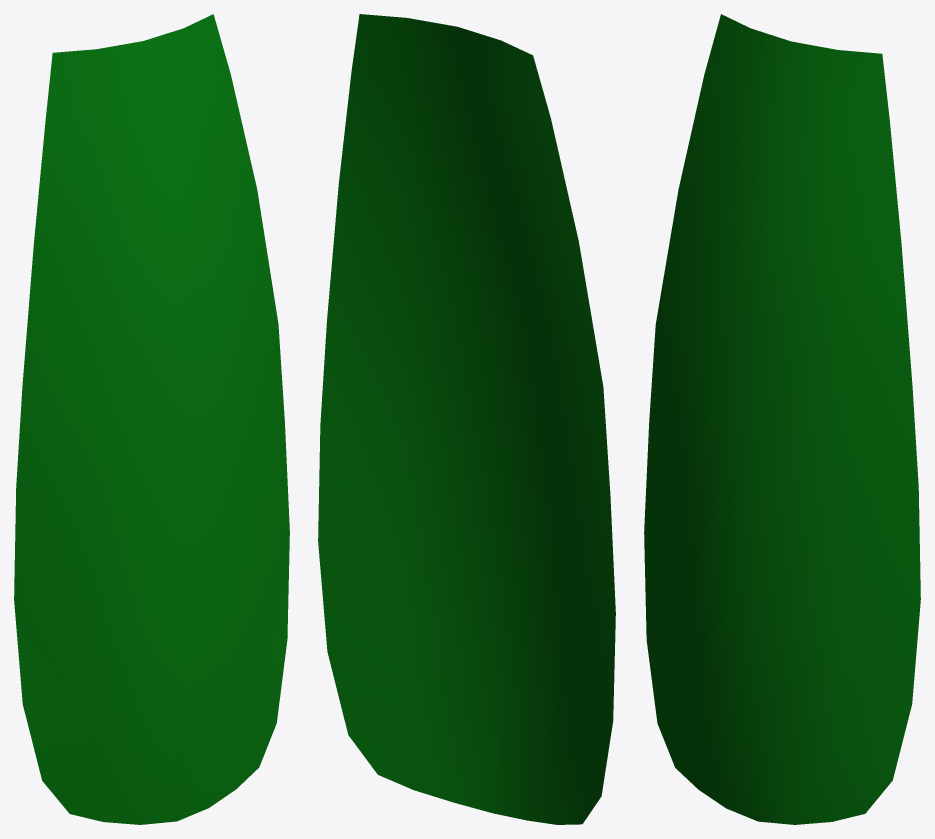
Rendered from MD_nail_square_HandL.Index.fbx.
The picture shows the model from 3 angles, left to right: view 1: azimuth 30°, elevation 25°; view 2: azimuth 150°, elevation 25°; view 3: azimuth 330°, elevation 25°; orthographic projection. The views are drawn at different scales.
Parts seen in each view (by area): view 1: MD_nail_square_HandL.Index; view 2: MD_nail_square_HandL.Index; view 3: MD_nail_square_HandL.Index.
Part boxes in pixels (<box>): MD_nail_square_HandL.Index: <box>14,14,289,824</box>; MD_nail_square_HandL.Index: <box>318,14,615,824</box>; MD_nail_square_HandL.Index: <box>644,14,920,824</box>.
Size of the model in its own units: 0.7402 by 1.94 by 0.2359.
